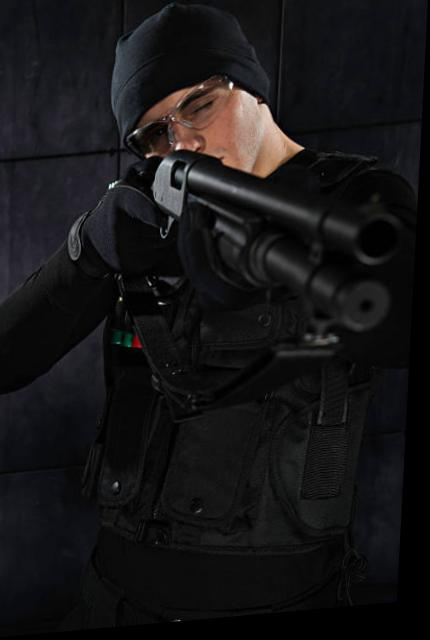other: (63, 0, 427, 611)
